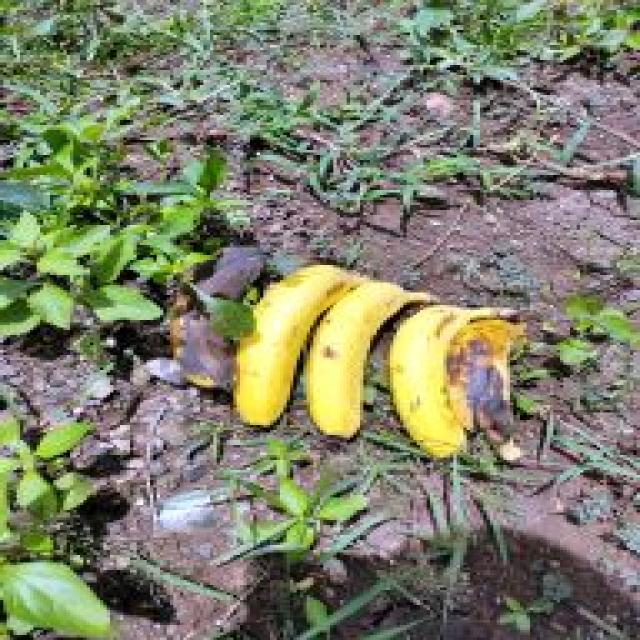Organik: (302, 266, 404, 445), (383, 287, 475, 455), (235, 256, 323, 422), (155, 241, 248, 386), (448, 301, 536, 445)
